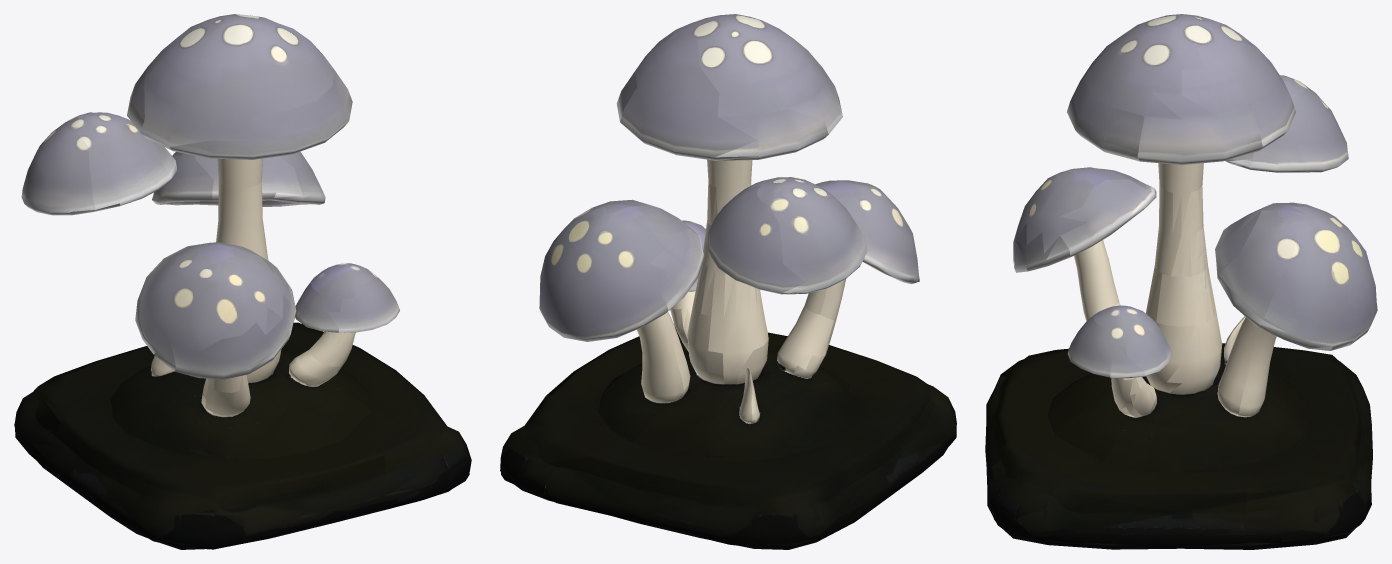
Rendered from mist_mushroom.glb.
The picture shows the model from 3 angles, left to right: view 1: azimuth 30°, elevation 25°; view 2: azimuth 150°, elevation 25°; view 3: azimuth 270°, elevation 25°; orthographic projection. The views are drawn at different scales.
Parts seen in each view (by area): view 1: mesh_node; view 2: mesh_node; view 3: mesh_node.
Boxes of the visible parts, left/top/right/bottom form: mesh_node: left=14, top=14, right=471, bottom=549; mesh_node: left=500, top=14, right=956, bottom=549; mesh_node: left=985, top=14, right=1377, bottom=549.
Bounding box in the file's own units: 0.8066 × 0.9961 × 0.7949.
1 material, 1 textured.
